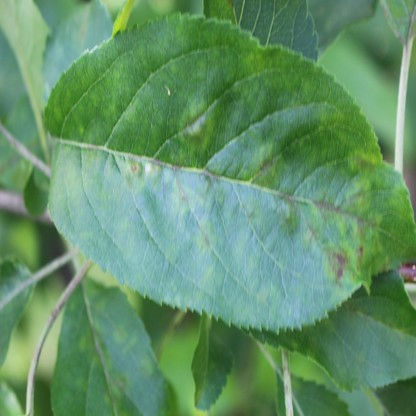scab: (303, 153, 388, 296), (79, 325, 128, 412), (178, 96, 213, 160), (50, 147, 96, 191), (249, 142, 290, 191), (348, 303, 404, 332), (123, 159, 162, 194), (171, 178, 204, 217), (272, 195, 299, 231), (80, 280, 105, 315), (238, 198, 261, 231), (112, 322, 136, 351), (197, 223, 217, 253), (137, 356, 152, 381)
